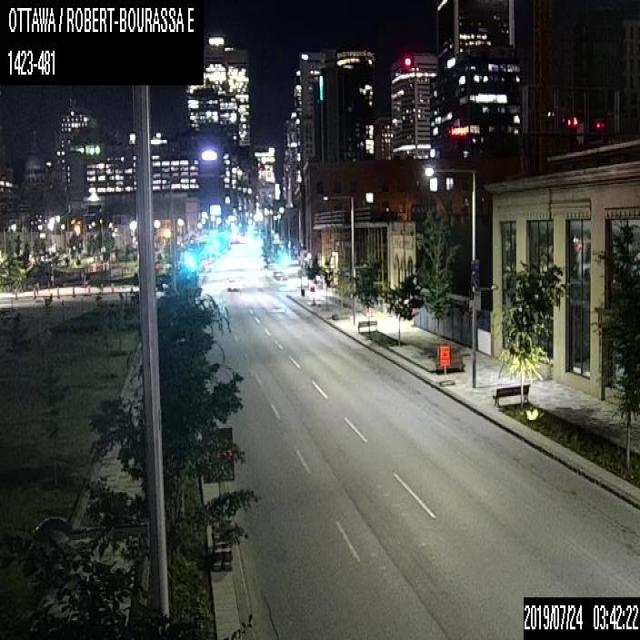construction: (200, 426, 234, 570), (435, 343, 452, 384)
vehicle: (226, 276, 237, 289)
